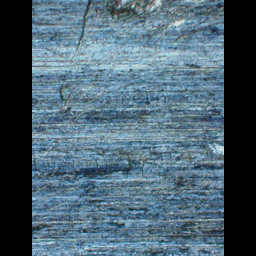d: (54, 0, 197, 126)
